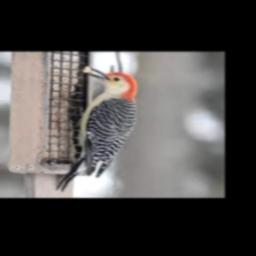Woodpecker: (56, 67, 137, 191)
